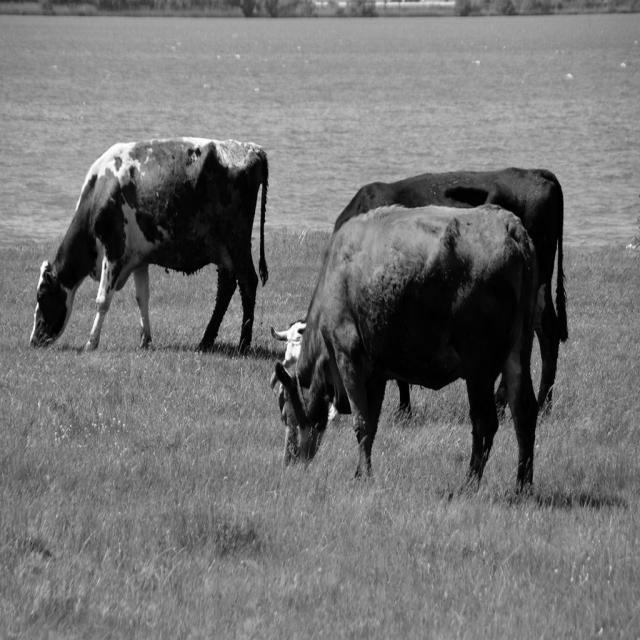cow: (272, 205, 538, 492), (336, 168, 568, 408), (31, 138, 268, 351), (271, 320, 304, 361)
